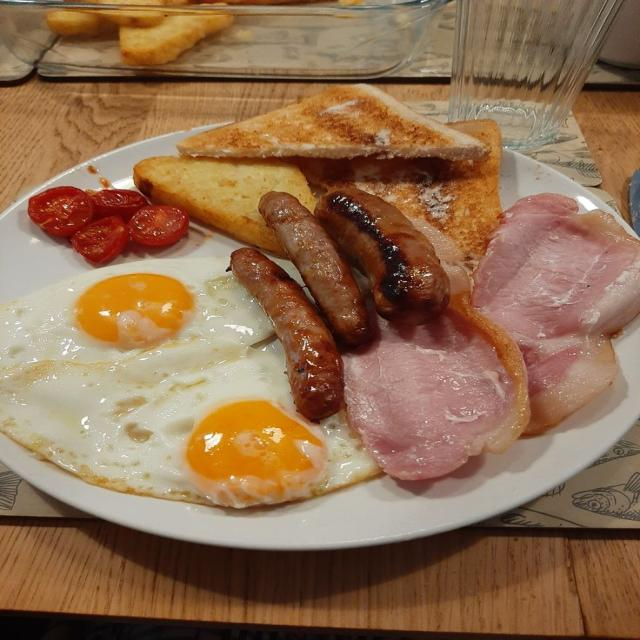sliced_tomato: (29, 187, 93, 236), (71, 216, 129, 263), (129, 206, 189, 246), (90, 189, 148, 221)
